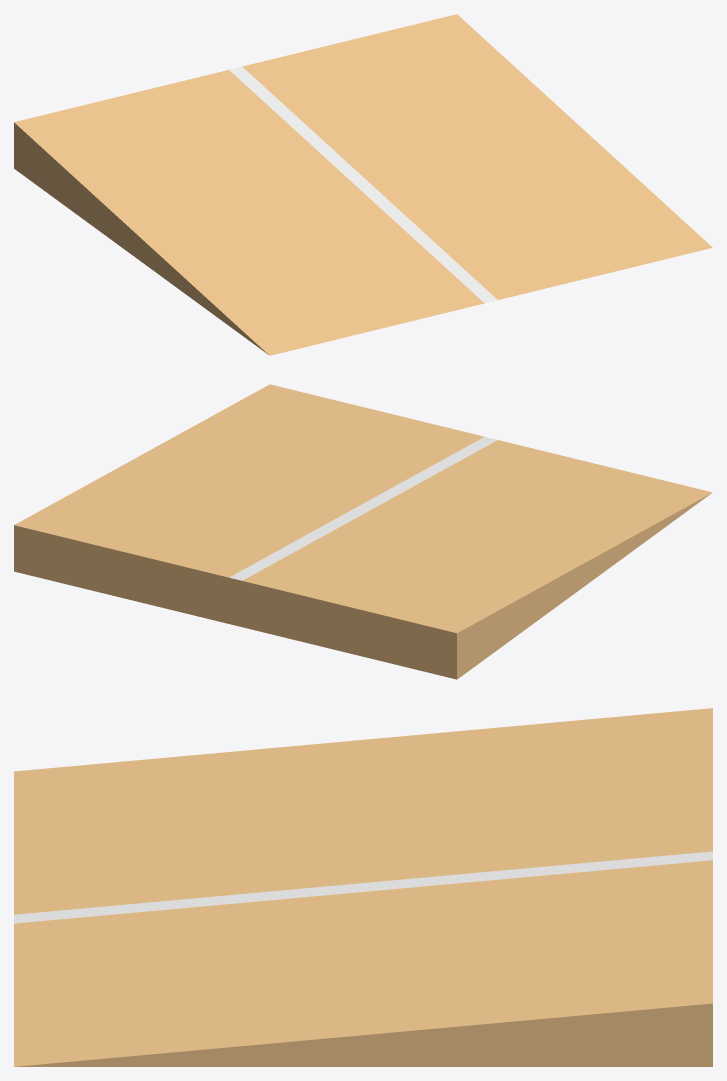
Rendered from slope1.dae.
3 renders of one model, top to bottom at view 1: azimuth 30°, elevation 25°; view 2: azimuth 150°, elevation 25°; view 3: azimuth 270°, elevation 25°, orthographic. The views are drawn at different scales.
Visible parts, largest first — view 1: instance_0.001, instance_0; view 2: instance_0.001, instance_0; view 3: instance_0.001, instance_0.
Part boxes in pixels (<box>): instance_0.001: <box>14,14,712,355</box>; instance_0: <box>229,66,497,303</box>; instance_0.001: <box>14,384,712,679</box>; instance_0: <box>229,437,497,580</box>; instance_0.001: <box>14,708,712,1066</box>; instance_0: <box>14,851,712,923</box>.
Size of the model in its own units: 1 by 1 by 0.1.
